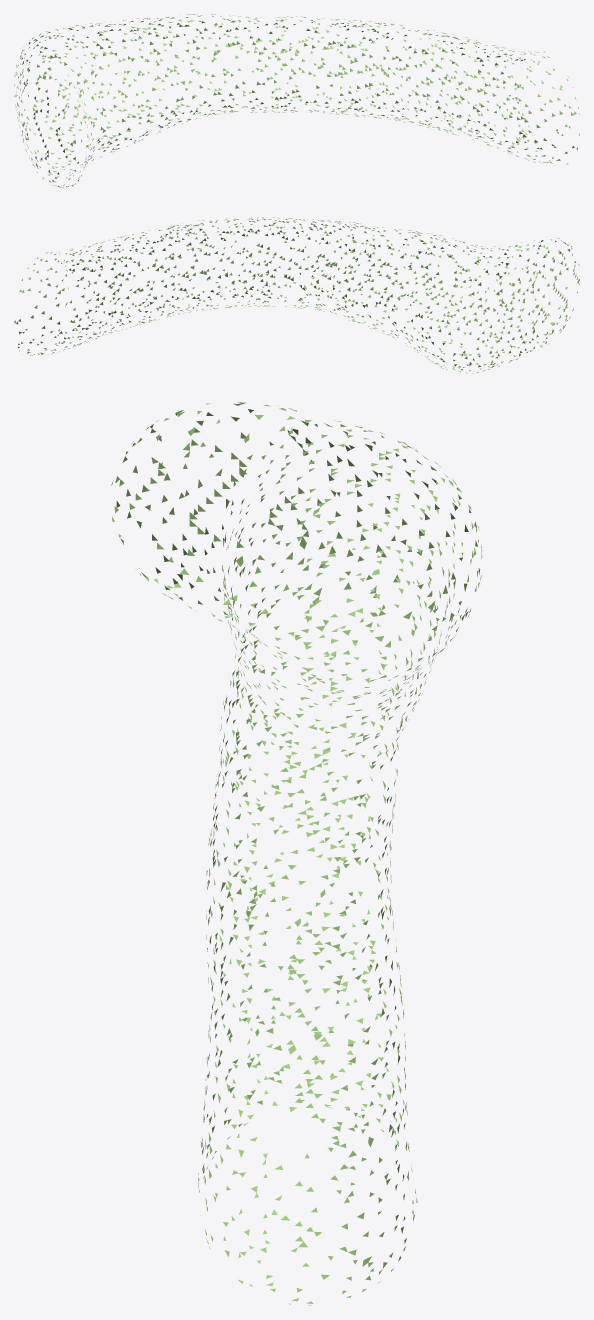
The model's file is morph_013.glb.
3 renders of one model, top to bottom at view 1: azimuth 30°, elevation 25°; view 2: azimuth 150°, elevation 25°; view 3: azimuth 270°, elevation 25°, orthographic. The views are drawn at different scales.
Size of the model in its own units: 104 by 43.43 by 33.58.
